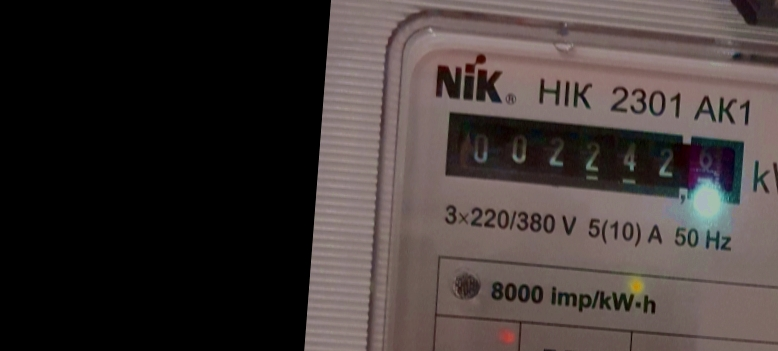0: (471, 130, 494, 165), (510, 131, 531, 165)
2: (548, 134, 569, 168), (584, 138, 604, 173), (658, 146, 677, 178)
4: (623, 139, 641, 173)
6: (699, 143, 716, 171)
screen: (434, 101, 758, 214)
